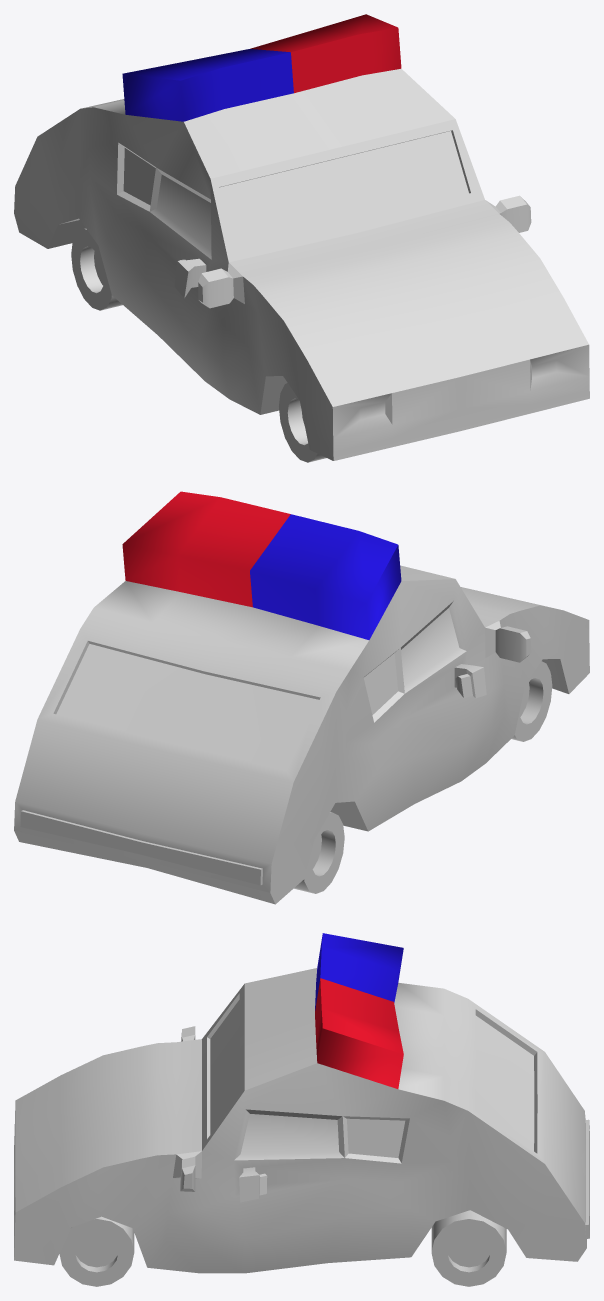
Rendered from CarAmbulance.fbx.
3 views of the same model, one above another, from view 1: azimuth 30°, elevation 25°; view 2: azimuth 150°, elevation 25°; view 3: azimuth 270°, elevation 25° (orthographic). The views are drawn at different scales.
Visible parts, largest first — view 1: Cube; view 2: Cube; view 3: Cube.
Boxes of the visible parts, box(x1,y1,x2,y2) form: Cube: box(14, 14, 589, 462); Cube: box(14, 491, 589, 904); Cube: box(14, 933, 589, 1286).
Bounding box in the file's own units: 343 × 288 × 582.
